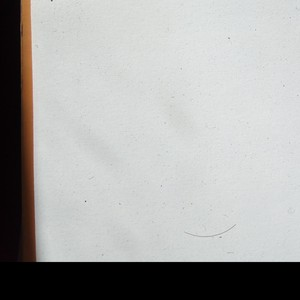base: (35, 3, 299, 260)
